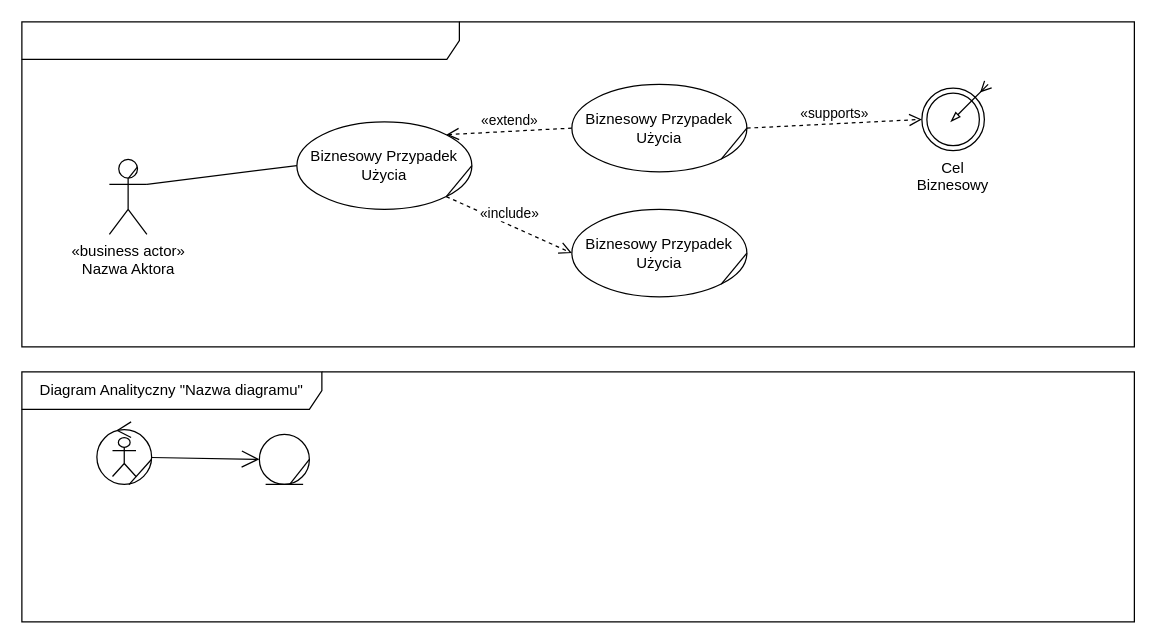
The diagram is 1156 pixels wide and 644 high, and some of its shapes have lost their labels. Each missing label, with the box of its shape:
Business Entity: (258, 433, 309, 484)
Business Worker: (96, 421, 152, 484)
Diagram Biznesowych Przypadków Użycia "Nazwa diagramu": (21, 21, 1134, 347)
